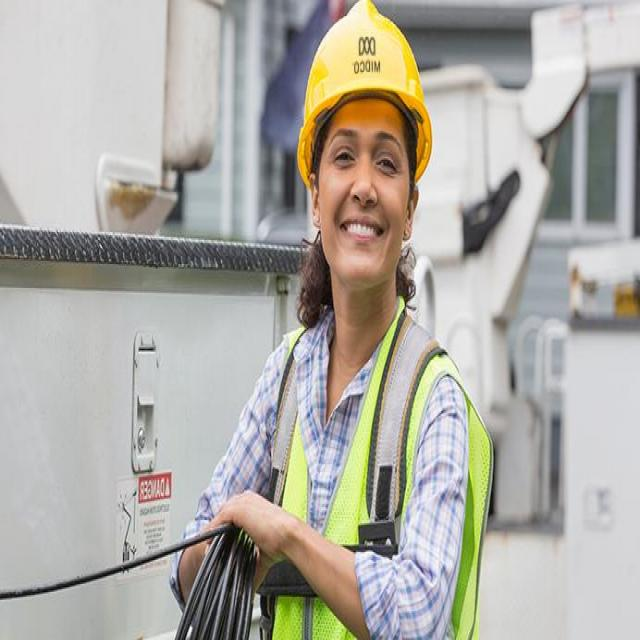Reflective-Jacket: (263, 302, 491, 640)
Safety-Helmet: (293, 2, 436, 184)
